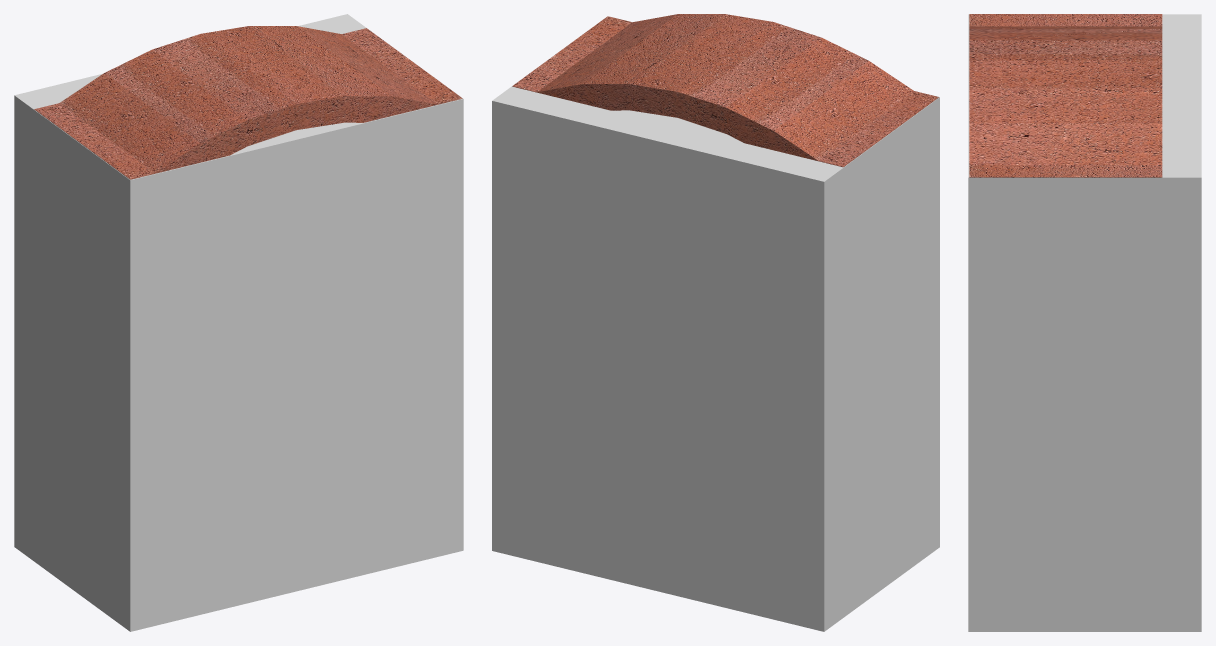
File: BLCR52ST.glb
3 views of the same model, side by side, from view 1: azimuth 30°, elevation 25°; view 2: azimuth 150°, elevation 25°; view 3: azimuth 270°, elevation 25° (orthographic).
Visible parts, largest first — view 1: _bb.004, clay.002; view 2: _bb.004, clay.002; view 3: _bb.004, clay.002.
Boxes of the visible parts, x1,y1,x2,y2 form: _bb.004: [14, 14, 463, 631]; clay.002: [34, 26, 462, 179]; _bb.004: [492, 86, 939, 631]; clay.002: [512, 14, 938, 167]; _bb.004: [968, 14, 1201, 631]; clay.002: [969, 14, 1162, 177].
Bounding box in the file's own units: 0.4012 × 0.56 × 0.242.
1 material, 1 textured.
